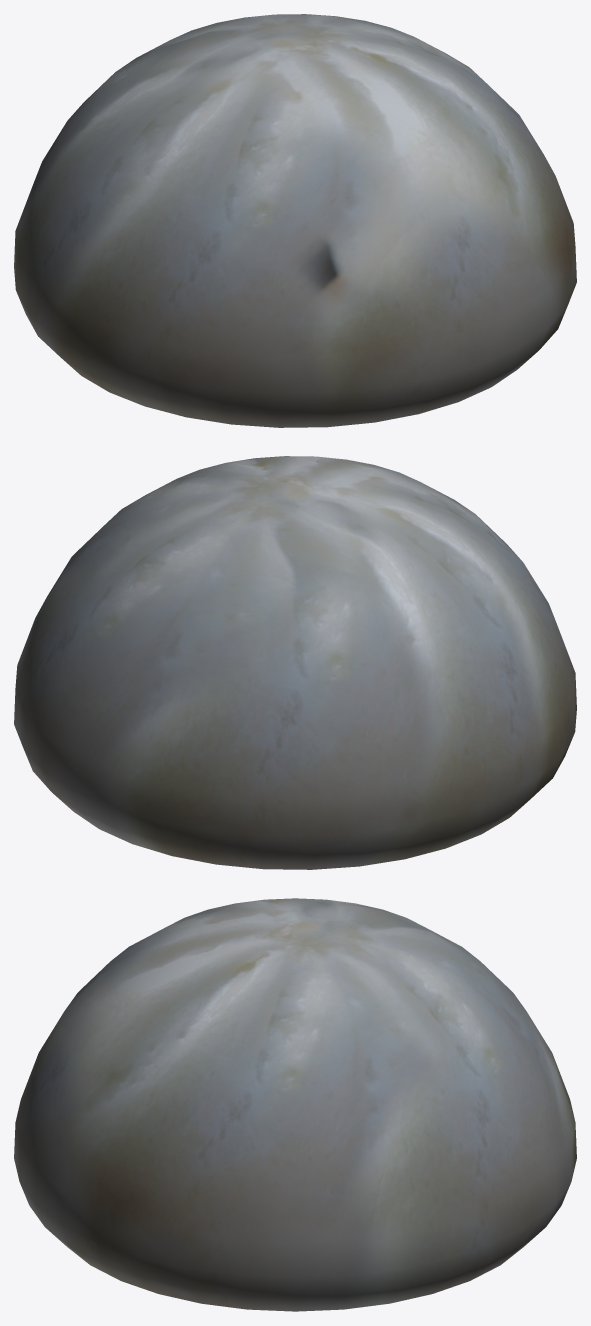
Rendered from Banhbao.fbx.
3 views of the same model, one above another, from view 1: azimuth 30°, elevation 25°; view 2: azimuth 150°, elevation 25°; view 3: azimuth 270°, elevation 25° (orthographic).
Parts seen in each view (by area): view 1: Sphere; view 2: Sphere; view 3: Sphere.
Boxes of the visible parts, x1,y1,x2,y2 form: Sphere: [14, 14, 576, 427]; Sphere: [14, 456, 576, 869]; Sphere: [14, 898, 576, 1311].
Bounding box in the file's own units: 199 × 110 × 199.
Materials: 1 (1 with a texture image).
